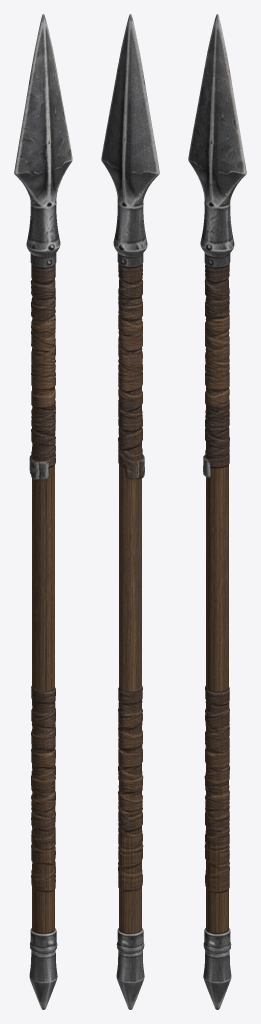
Rendered from Ironfang_Spear_20260923.glb.
3 renders of one model, left to right at view 1: azimuth 30°, elevation 25°; view 2: azimuth 150°, elevation 25°; view 3: azimuth 330°, elevation 25°, orthographic.
Size of the model in its own units: 0.1167 by 1.91 by 0.0618.
Materials: 1 (1 with a texture image).
